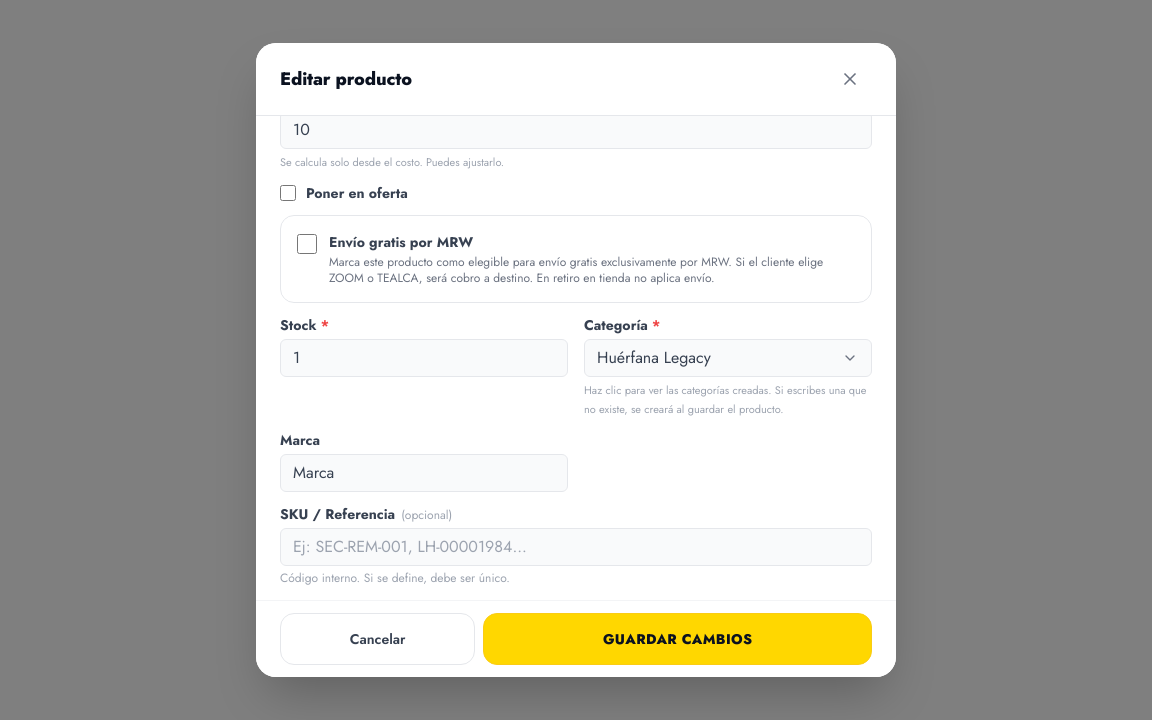
Scenario: AddProductModal — categoría › al editar conserva la categoría actual aunque no esté en la lista
This screenshot has width=1152, height=720.
(page scrolled)
Focus the dropdown labelled "Categoría *" at (728, 358), box [584,339,872,377]
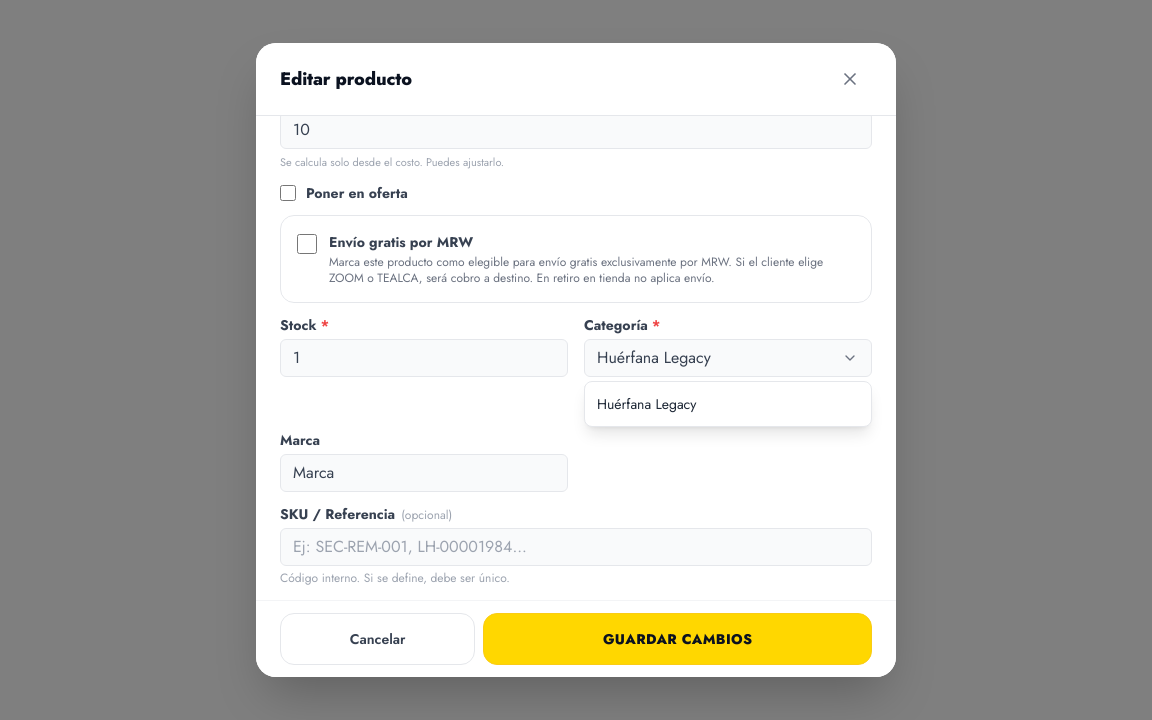
Expected: the list with test id "category-options" reads "Huérfana Legacy", [585,386,871,422]
